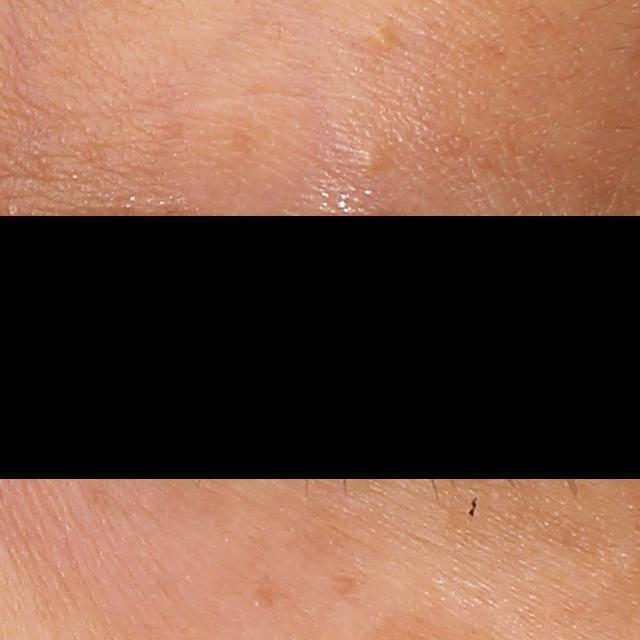comedo: (356, 141, 388, 175)
melasma: (324, 563, 371, 608)
